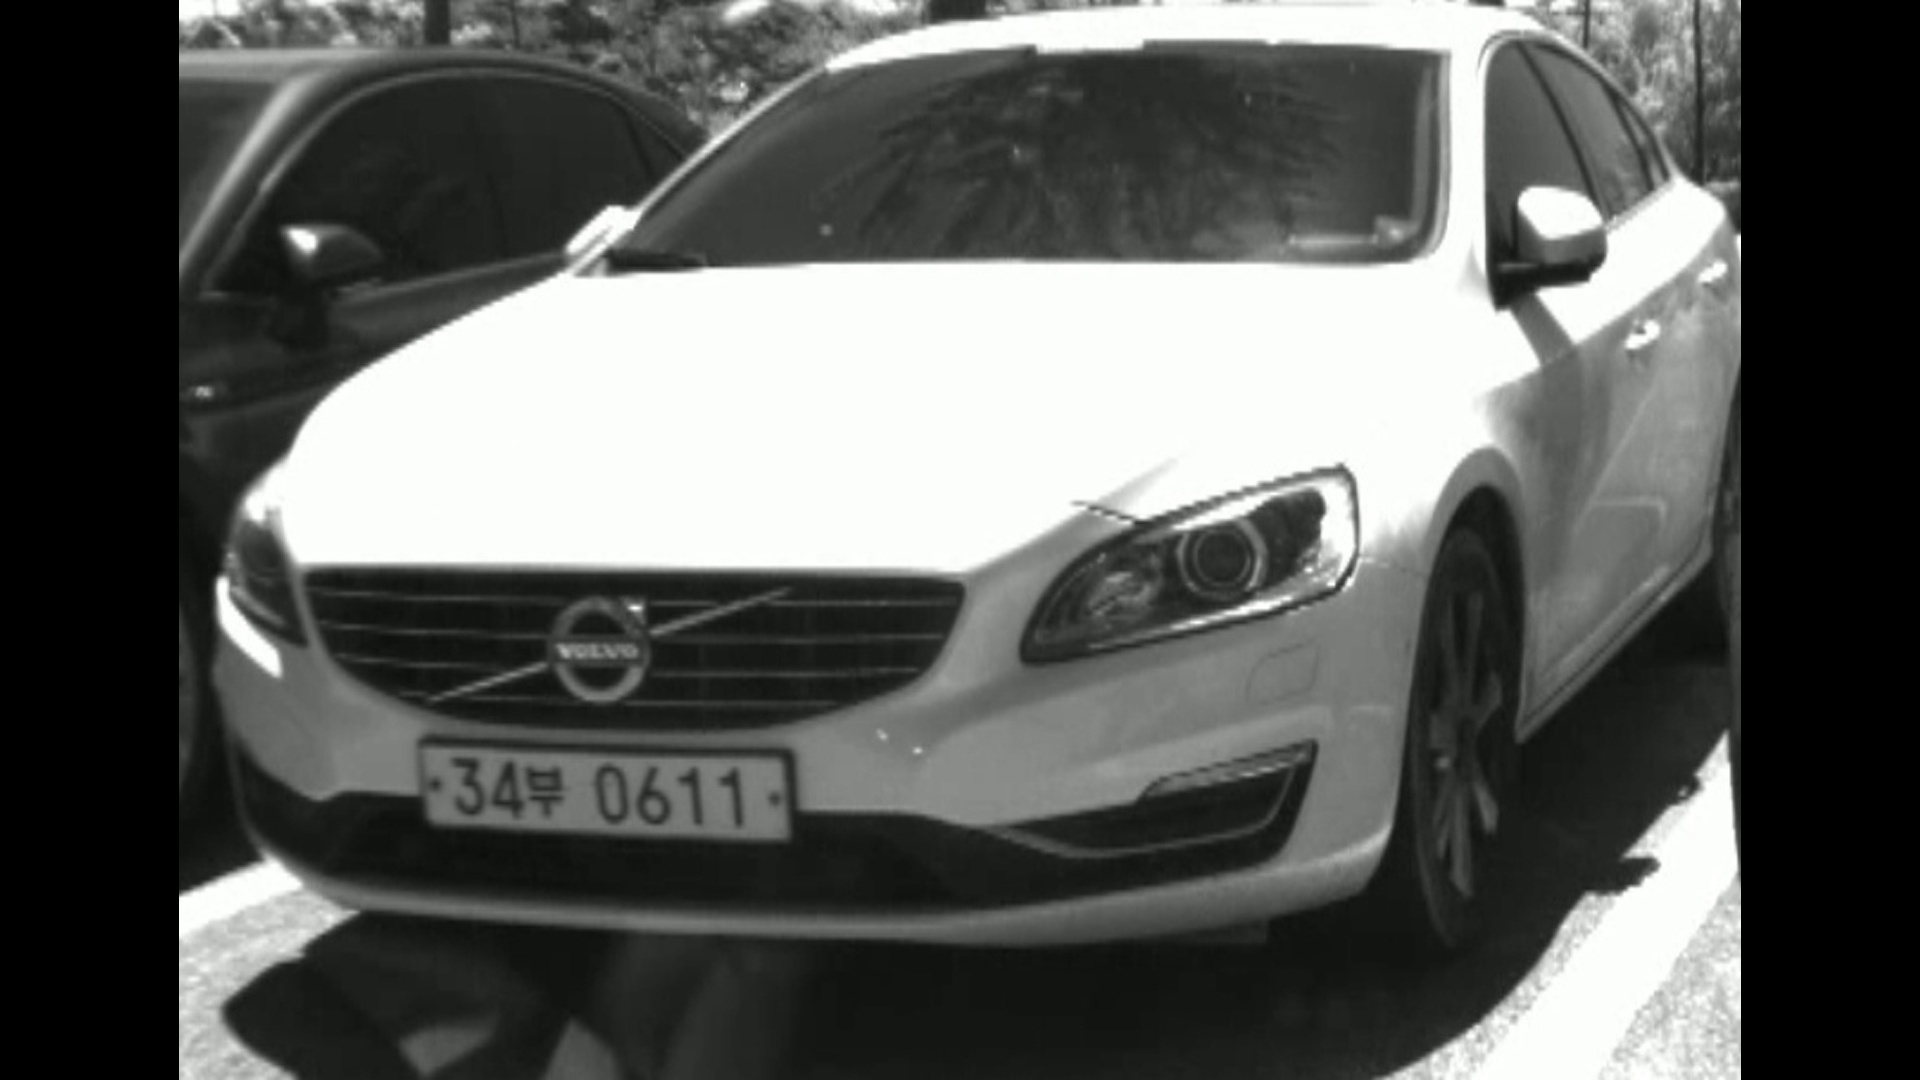license_plate: (413, 736, 799, 848)
